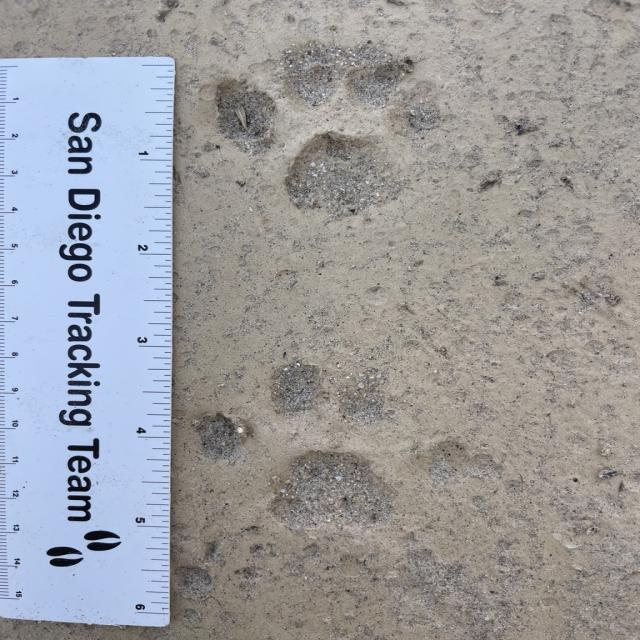felid: (193, 365, 470, 525), (215, 48, 443, 212)
